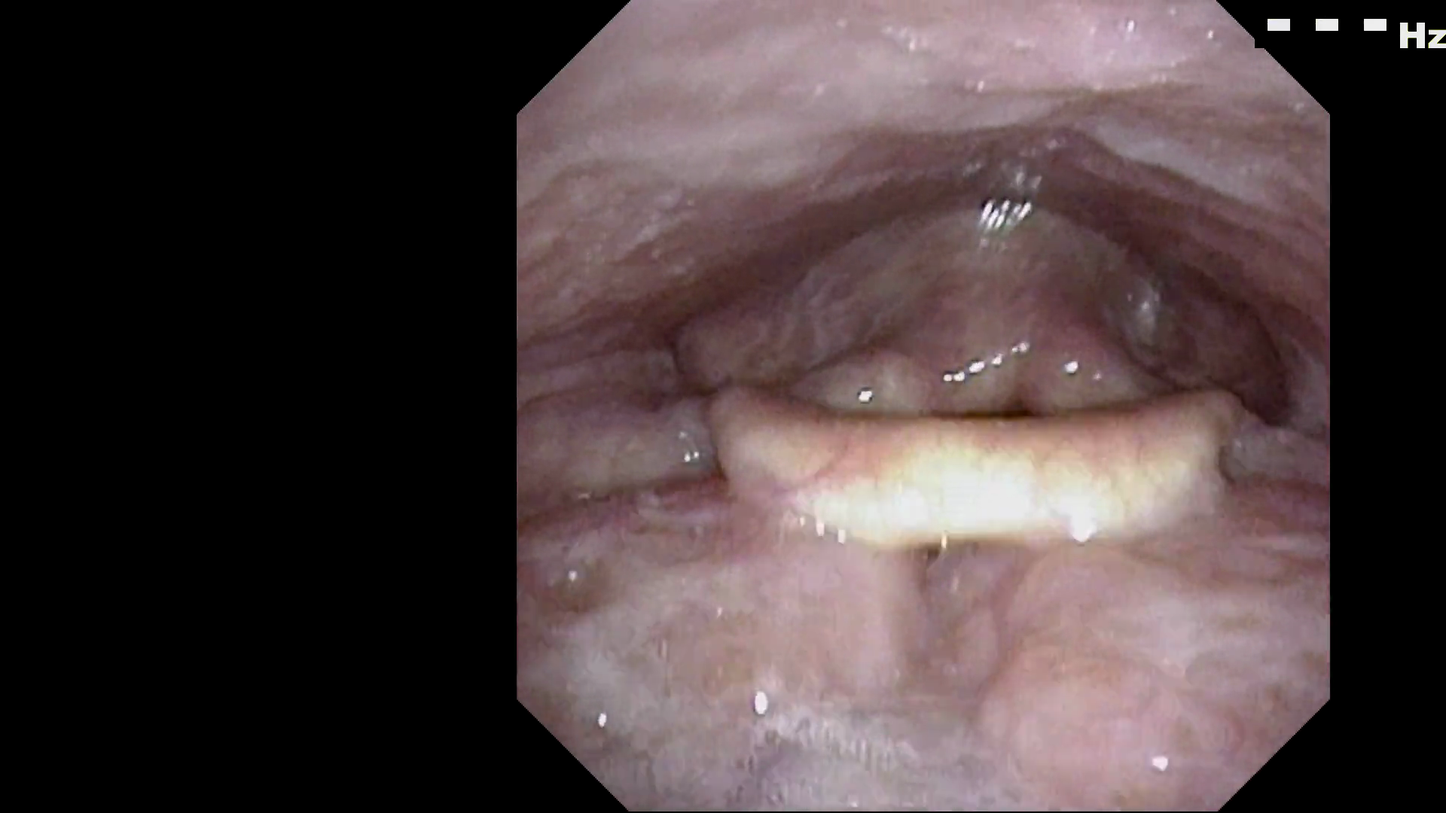epiglottis: (695, 347, 1268, 601)
trachea: (931, 363, 1049, 486)
